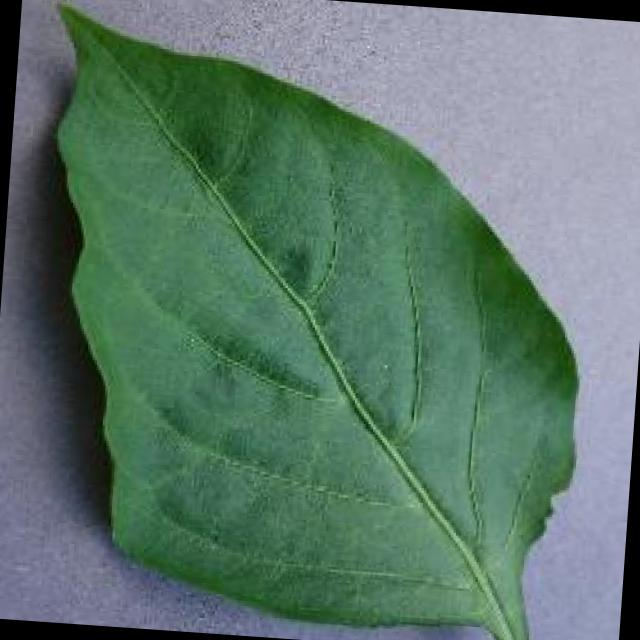Chilli_Healthy: (8, 0, 605, 640)
